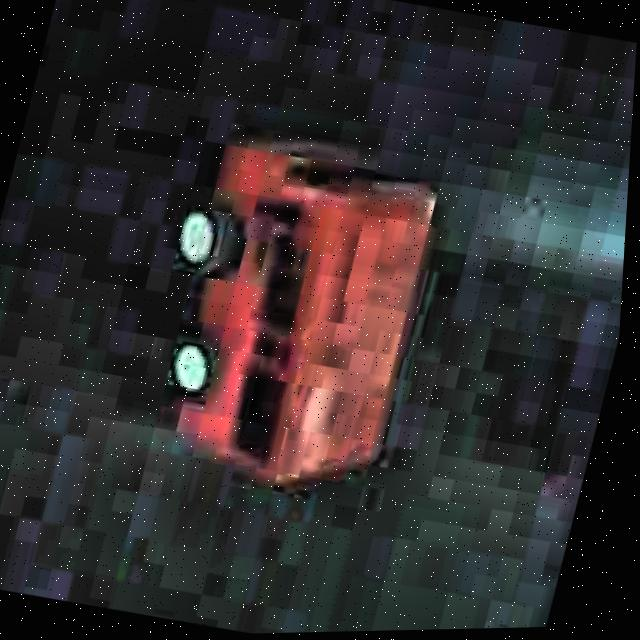bus: (90, 102, 471, 518)
